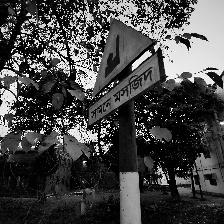Mosque in front: (87, 17, 165, 129)
